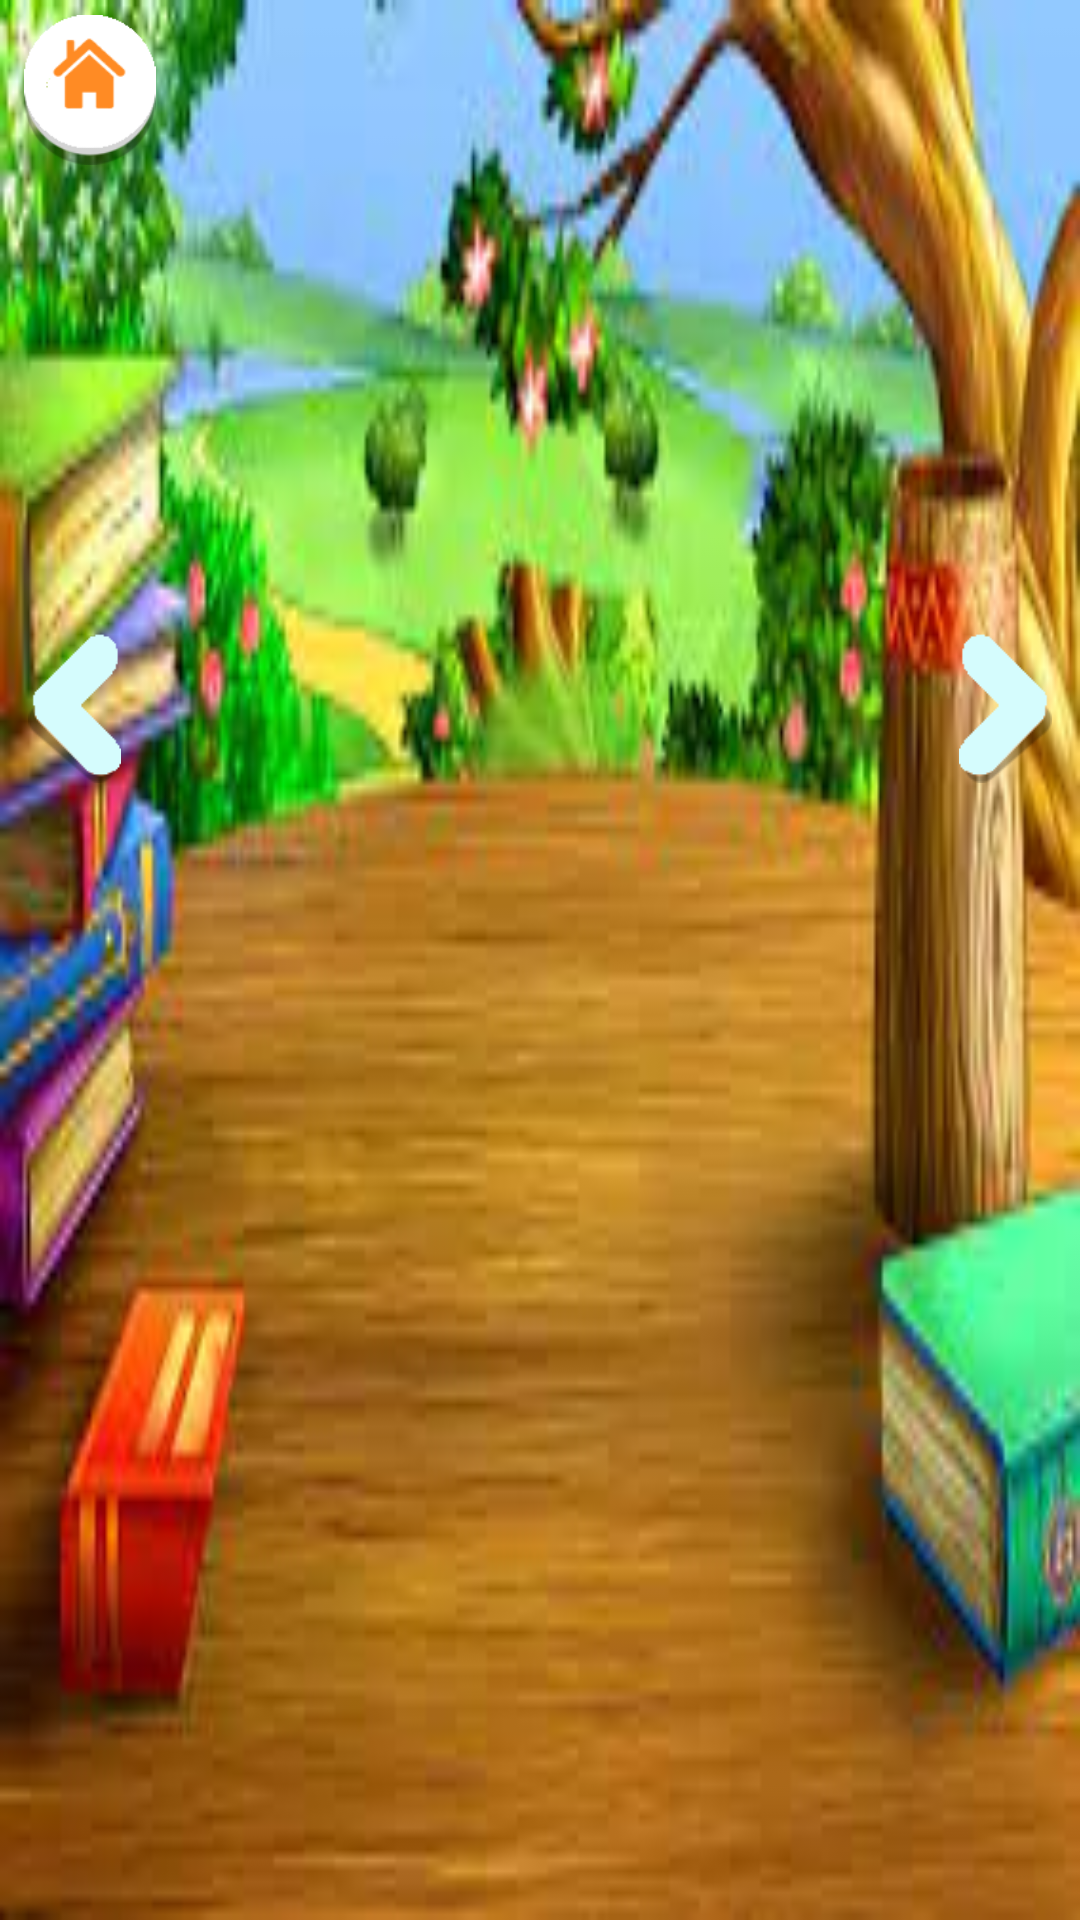

Where to tap for icons on this 1080 × 1920 app screen, as (x=x, y=y):
home: (x=90, y=90)
